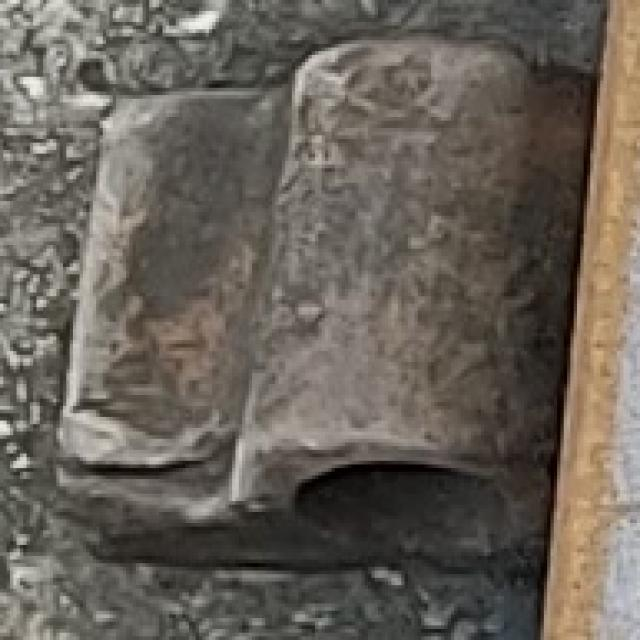track_bolt_missing: (217, 25, 554, 539)
